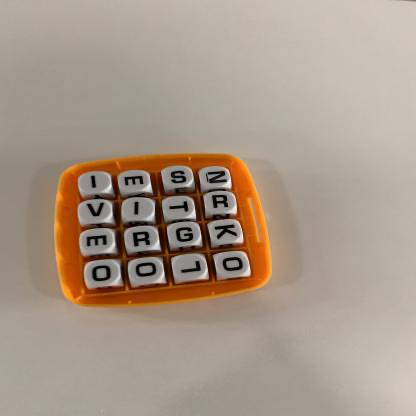e: (80, 229, 116, 254), (118, 170, 152, 193)
g: (168, 223, 202, 247)
i: (122, 198, 156, 222), (79, 172, 113, 195)
k: (211, 220, 243, 244)
l: (174, 254, 208, 280)
n: (201, 167, 232, 189)
o: (85, 260, 122, 287), (130, 259, 166, 284), (216, 252, 250, 278)
r: (126, 226, 160, 251), (206, 192, 237, 214)
s: (164, 166, 195, 188)
t: (163, 197, 196, 220)
v: (79, 200, 113, 223)
